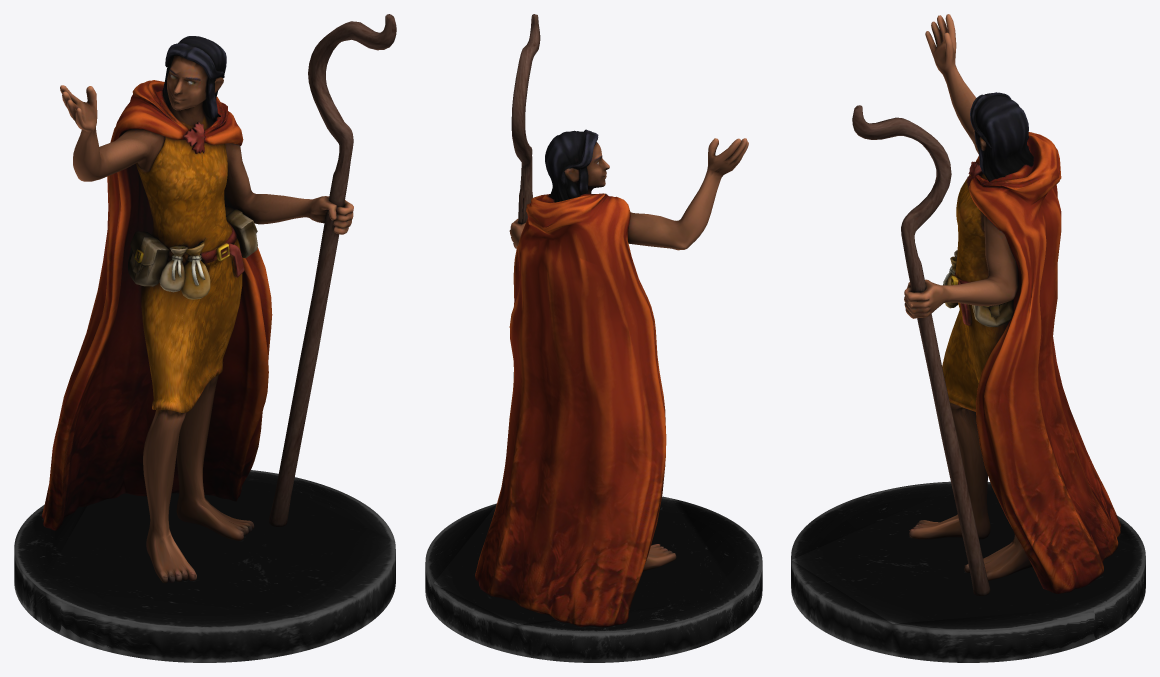
Rendered from MZ4250 - Druid Human Female (autumm).glb.
3 views of the same model, side by side, from view 1: azimuth 30°, elevation 25°; view 2: azimuth 150°, elevation 25°; view 3: azimuth 270°, elevation 25° (orthographic). The views are drawn at different scales.
Parts seen in each view (by area): view 1: Medium_Creature.001, Body.001_Body.001, Cloak_Base.001, Cylinder.001_Cylinder.001, Small_Bag_Generic.002; view 2: Cloak_Base.001, Medium_Creature.001, Body.001_Body.001, Cylinder.001_Cylinder.001; view 3: Medium_Creature.001, Cloak_Base.001, Body.001_Body.001, Cylinder.001_Cylinder.001, Small_Bag_Generic.002.
Boxes of the visible parts, <box> form: Medium_Creature.001: <box>14,470,395,662</box>; Body.001_Body.001: <box>60,36,353,583</box>; Cloak_Base.001: <box>41,80,272,530</box>; Cylinder.001_Cylinder.001: <box>269,14,396,526</box>; Small_Bag_Generic.002: <box>128,204,257,299</box>; Cloak_Base.001: <box>475,193,666,627</box>; Medium_Creature.001: <box>425,496,762,662</box>; Body.001_Body.001: <box>509,129,748,571</box>; Cylinder.001_Cylinder.001: <box>511,14,540,377</box>; Medium_Creature.001: <box>791,481,1145,662</box>; Cloak_Base.001: <box>968,132,1121,593</box>; Body.001_Body.001: <box>904,14,1033,580</box>; Cylinder.001_Cylinder.001: <box>852,105,990,595</box>; Small_Bag_Generic.002: <box>943,250,1013,326</box>.
Bounding box in the file's own units: 4.85 × 8.14 × 4.85.
1 material, 1 textured.
